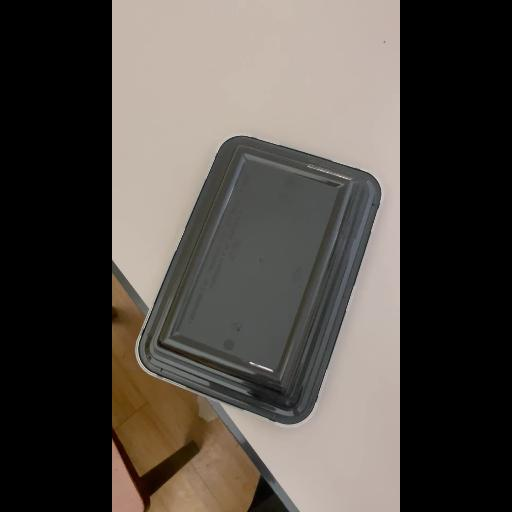rigid_plastic_container: (136, 132, 376, 430)
